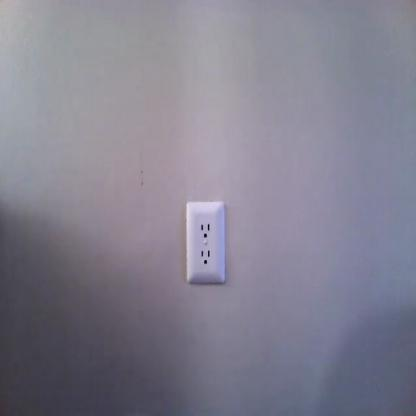OUTLET: (186, 202, 225, 284)
